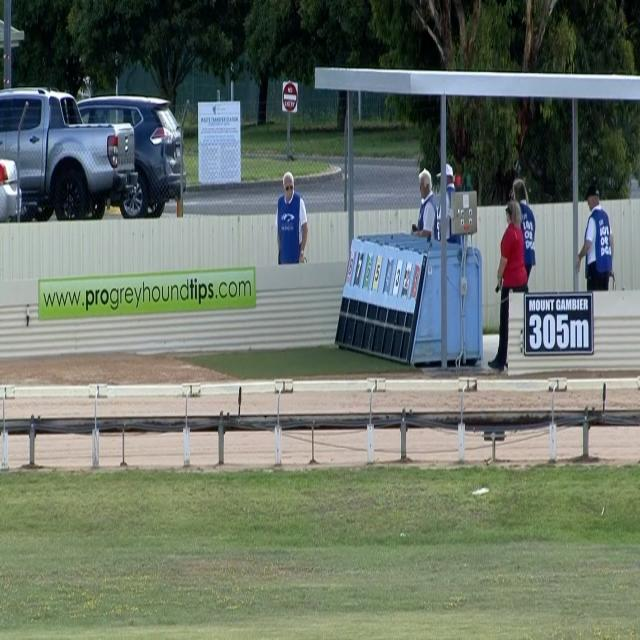rail: (0, 408, 640, 436)
